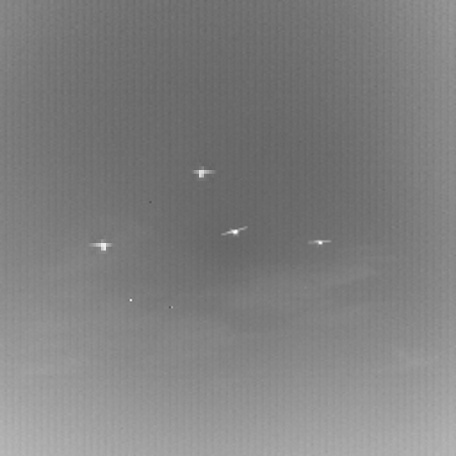plane: (86, 228, 116, 258), (189, 155, 219, 185), (217, 220, 245, 236), (304, 232, 329, 244)
